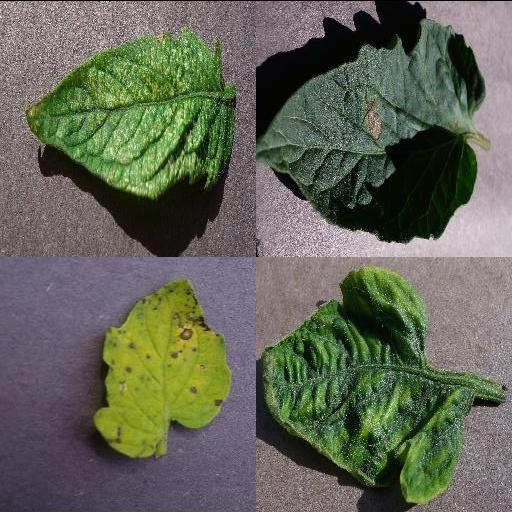Early Blight: (257, 17, 487, 241)
Septoria: (93, 277, 234, 459)
Spider Mites: (24, 31, 238, 201)
Yellow Leaf Curl Virus: (260, 268, 468, 504)
